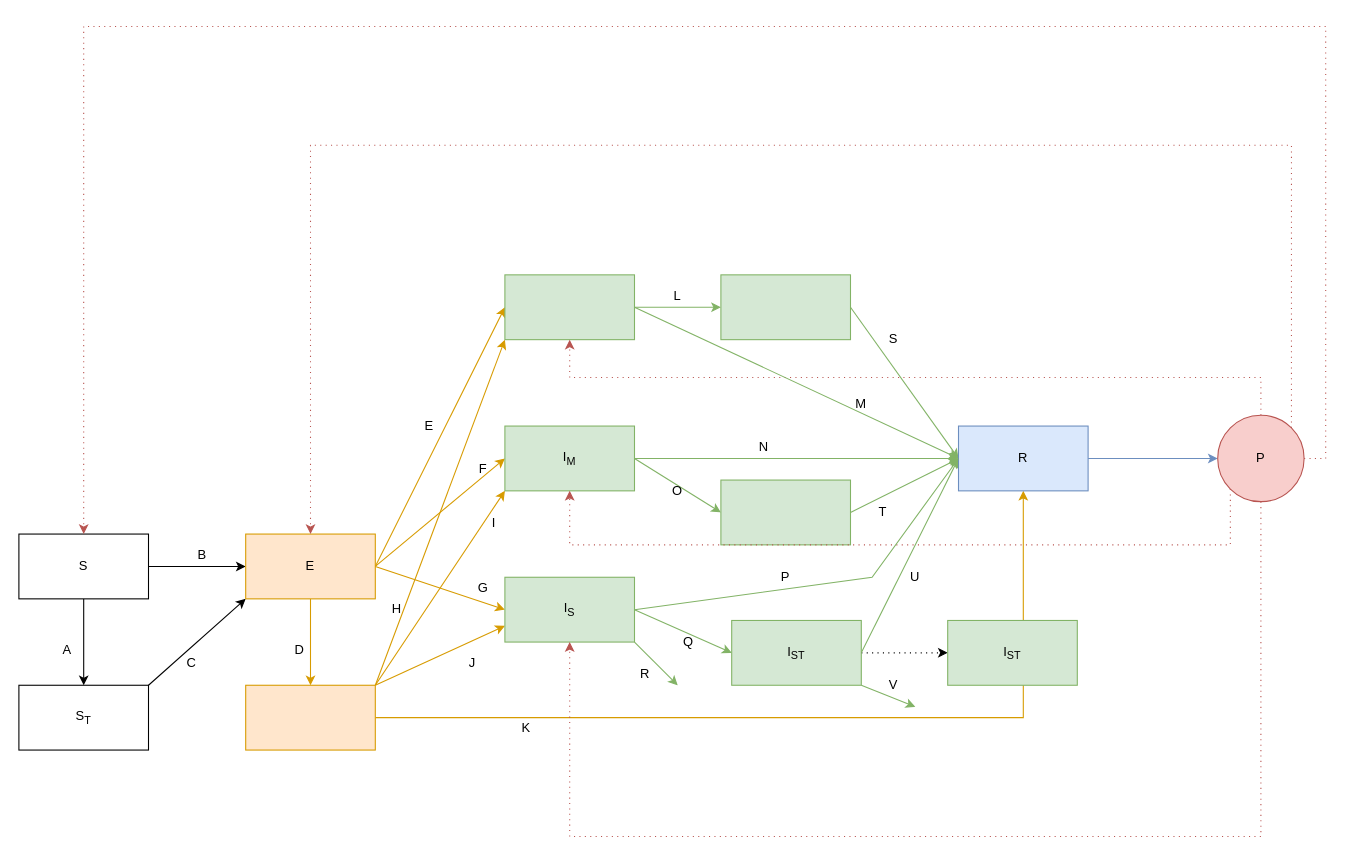
The diagram is 1353 pixels wide and 864 high, and some of its shapes have lost their labels. Each missing label, with the centre of its shape:
"E T" belongs at [310,717].
"I A" belongs at [569,307].
"I AT" belongs at [785,307].
"I MT" belongs at [785,512].
